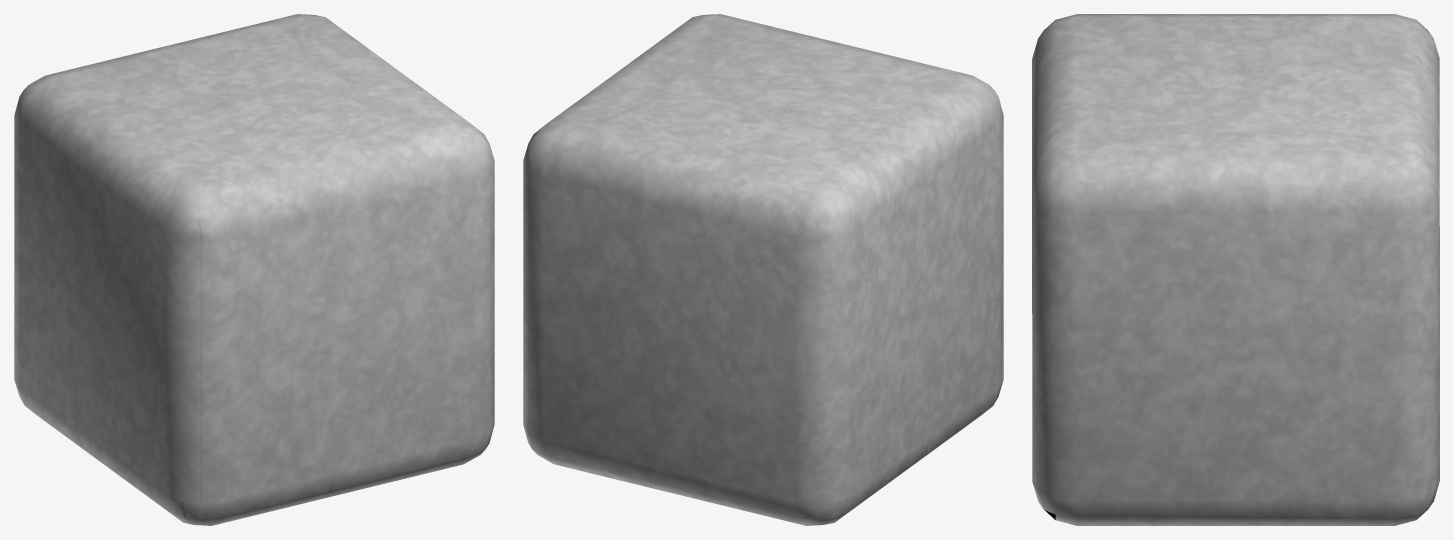
The model's file is portal parca 3.fbx.
3 renders of one model, left to right at view 1: azimuth 30°, elevation 25°; view 2: azimuth 150°, elevation 25°; view 3: azimuth 270°, elevation 25°, orthographic. The views are drawn at different scales.
Parts seen in each view (by area): view 1: Cube; view 2: Cube; view 3: Cube.
Boxes of the visible parts, left/top/right/bottom form: Cube: left=14, top=14, right=494, bottom=525; Cube: left=523, top=14, right=1003, bottom=525; Cube: left=1032, top=14, right=1439, bottom=525.
Bounding box in the file's own units: 200 × 200 × 200.
